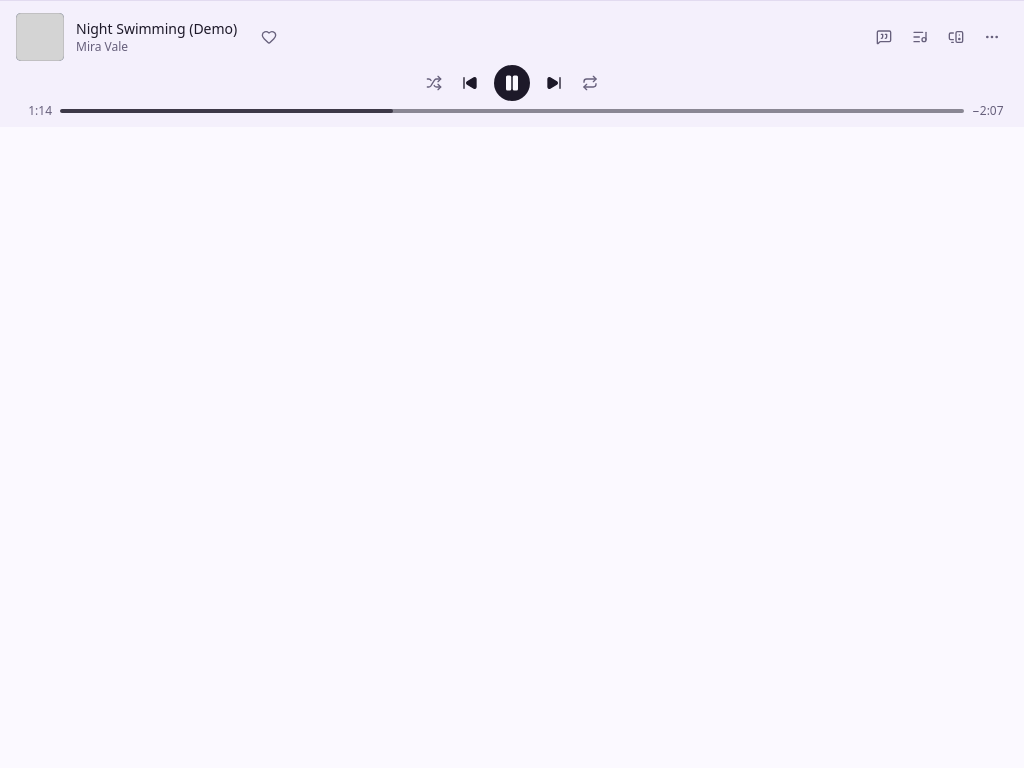
Scenario: PlayerBar at the widths a desktop and a tablet give it › stacks the transport under the song on a tablet, so the title and credit keep their room
Check: the button named "Lyrics" is shown, box x1=868 y1=21 x2=900 y2=53
Click the button named "More player controls".
click(992, 37)  # box x1=976 y1=21 x2=1008 y2=53
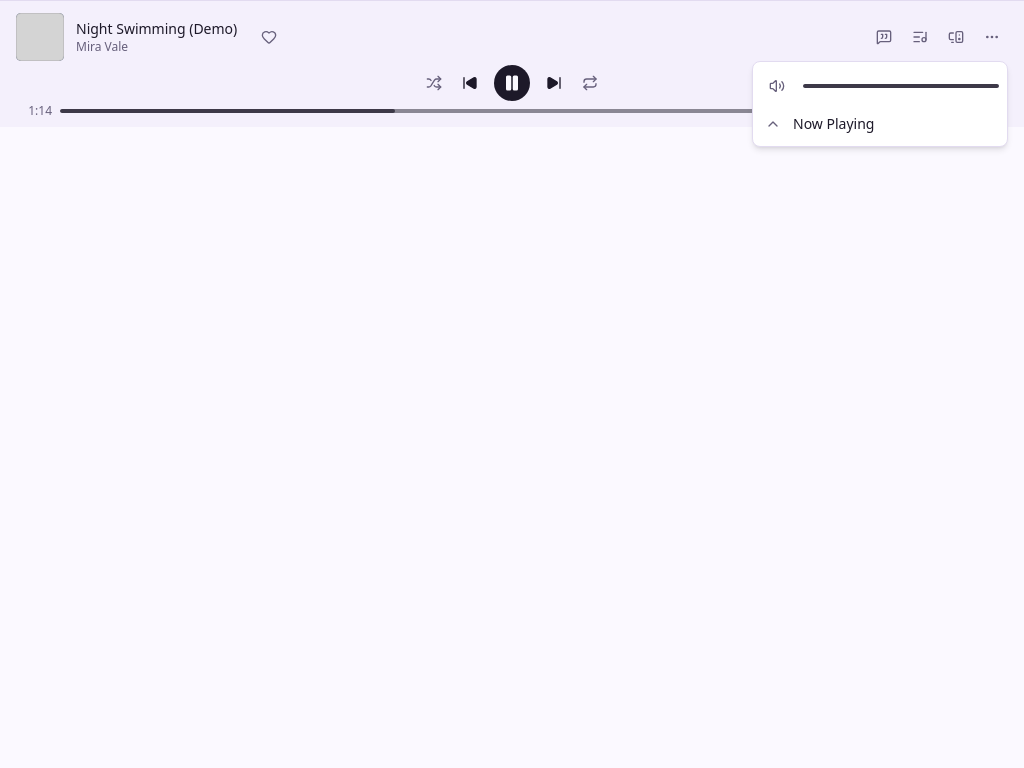
Check: the button "Now Playing" is shown, box x1=757 y1=106 x2=1003 y2=142
